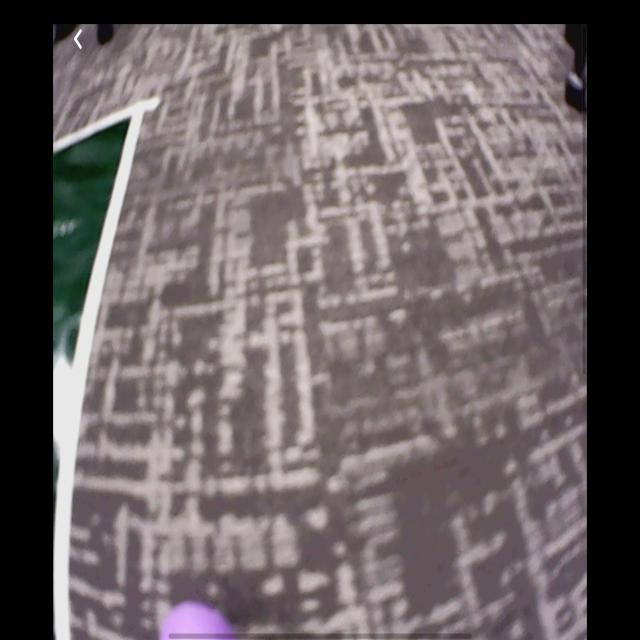ball: (158, 605, 236, 640)
